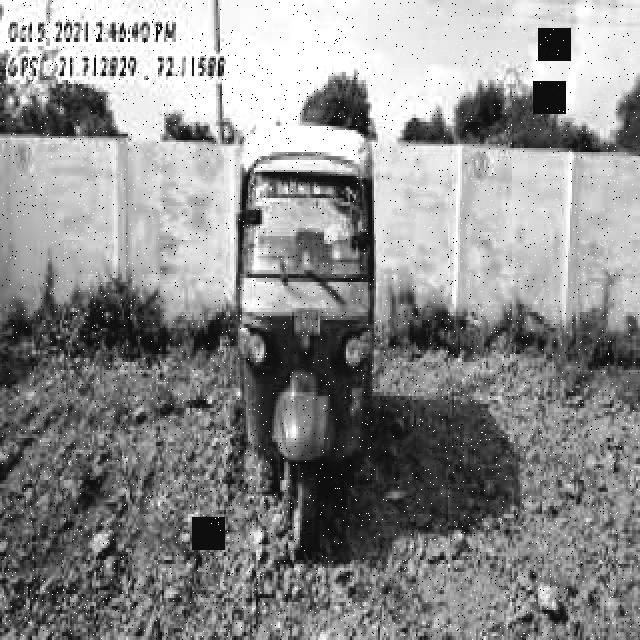Auto-Rickshaw: (194, 106, 428, 558)
